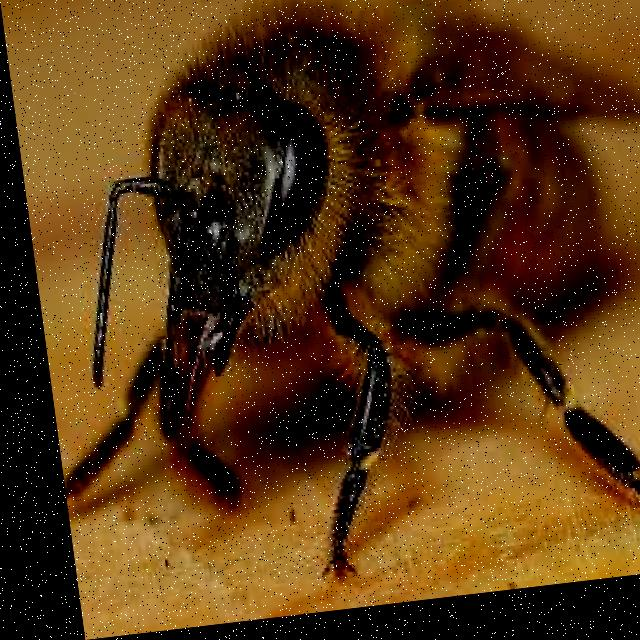Apis-mellifera-scutellata: (21, 0, 640, 626)
